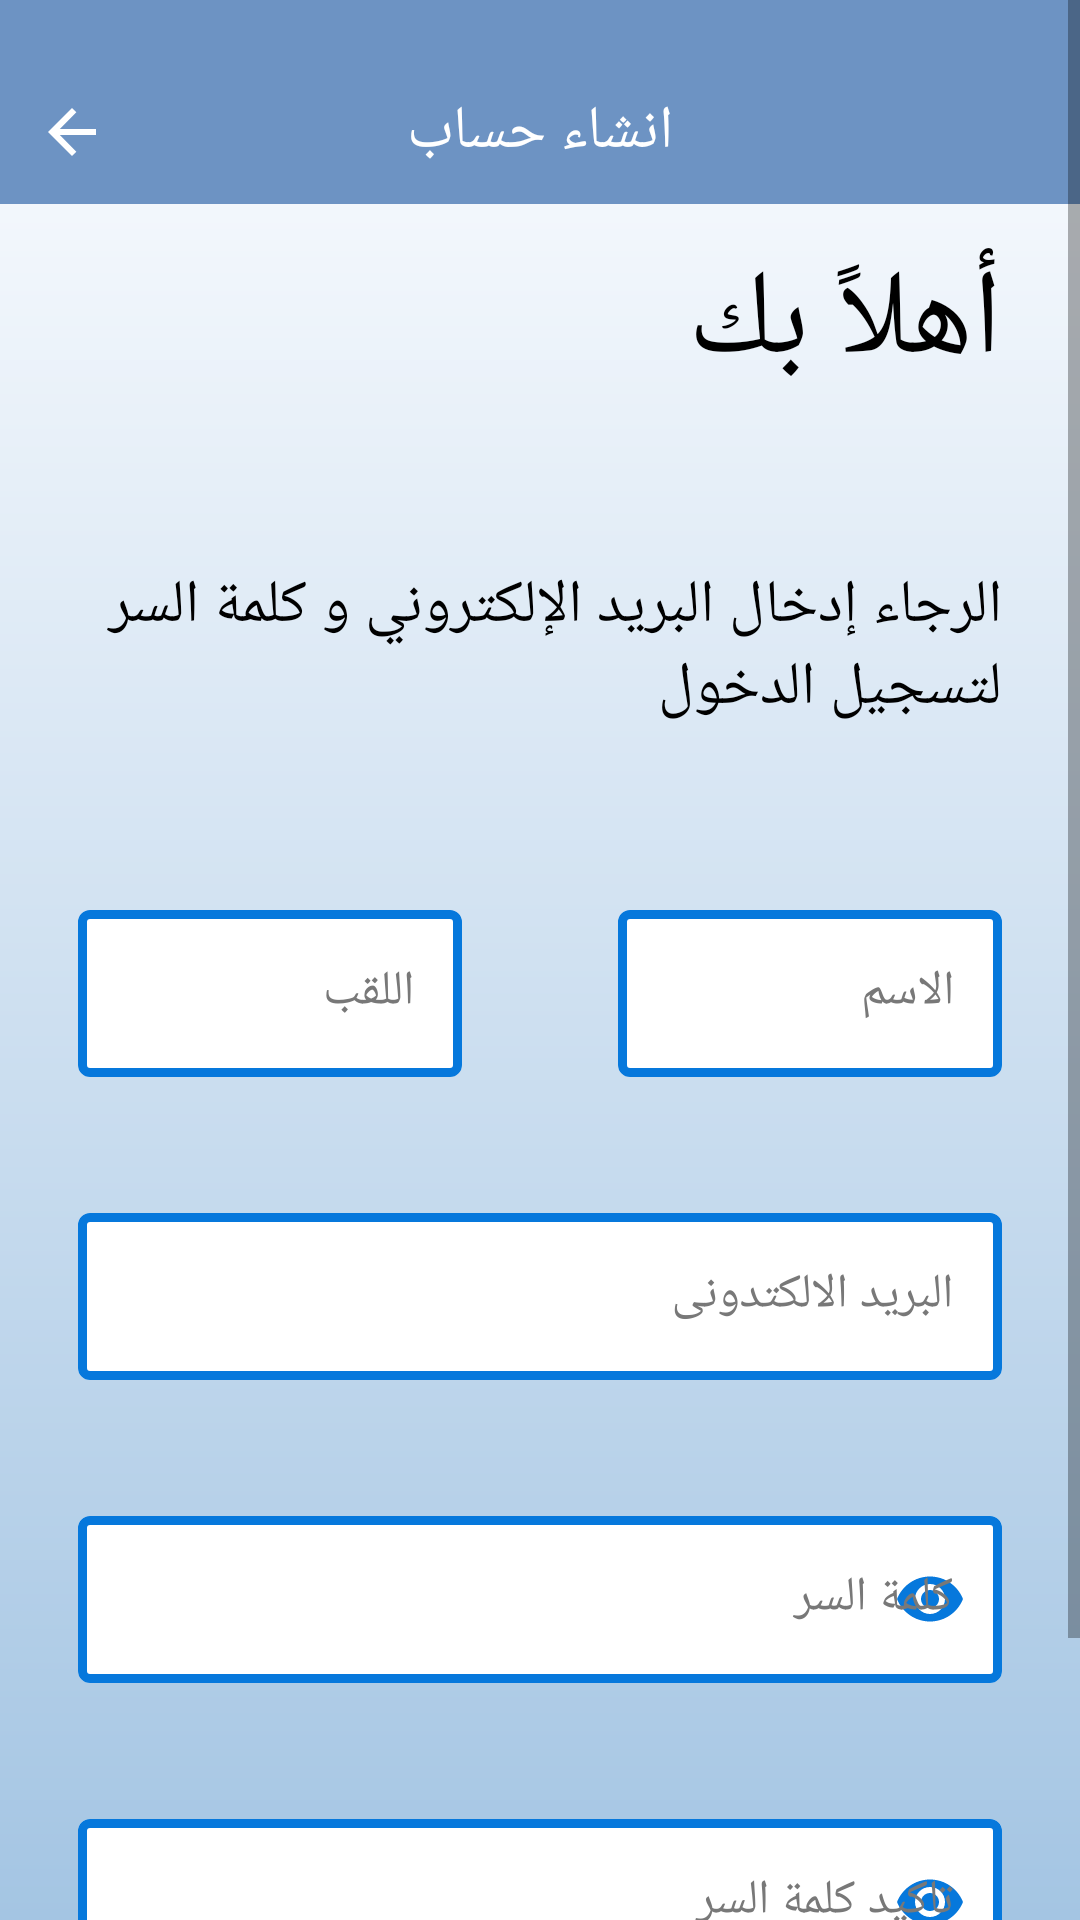

Where to tap for icons on this 1080w x 1920h app screen, as point (x, y):
back arrow: point (72, 132)
